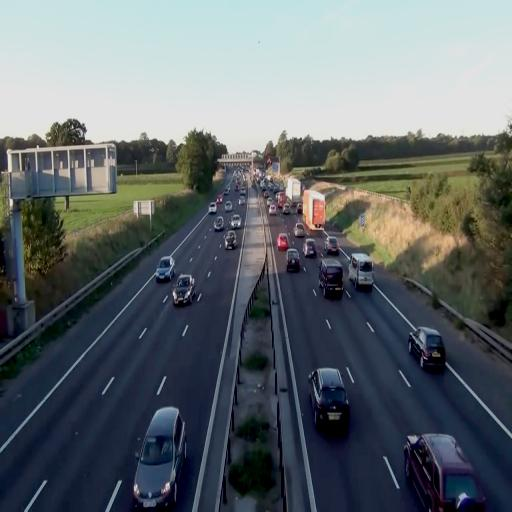vehicle: (404, 432, 487, 512), (404, 434, 484, 511), (133, 406, 186, 511), (133, 407, 185, 511), (308, 366, 350, 433), (308, 368, 348, 431), (409, 326, 445, 370), (408, 327, 444, 369), (302, 190, 326, 240), (318, 258, 342, 299), (349, 253, 374, 290), (318, 259, 342, 297), (302, 190, 324, 230), (348, 254, 373, 289), (172, 274, 194, 306), (172, 275, 194, 305), (154, 256, 176, 282), (155, 256, 174, 282), (285, 248, 302, 271), (285, 178, 300, 204), (224, 226, 240, 250), (286, 249, 300, 272), (276, 231, 290, 253), (325, 235, 340, 254), (224, 230, 238, 249), (302, 239, 316, 258), (323, 237, 338, 254), (224, 231, 235, 249), (276, 234, 288, 250), (213, 215, 224, 230), (230, 214, 241, 229), (277, 191, 286, 209), (293, 223, 304, 237), (213, 217, 223, 231), (208, 203, 216, 214), (268, 205, 276, 215), (282, 203, 289, 214), (272, 185, 281, 193), (216, 194, 223, 204), (238, 196, 246, 204), (224, 202, 231, 211), (296, 202, 301, 214), (266, 197, 272, 206), (223, 187, 229, 195), (260, 181, 265, 190), (278, 182, 283, 191), (235, 182, 239, 192), (263, 190, 268, 198), (240, 187, 245, 194), (268, 175, 272, 182), (235, 178, 238, 185)
